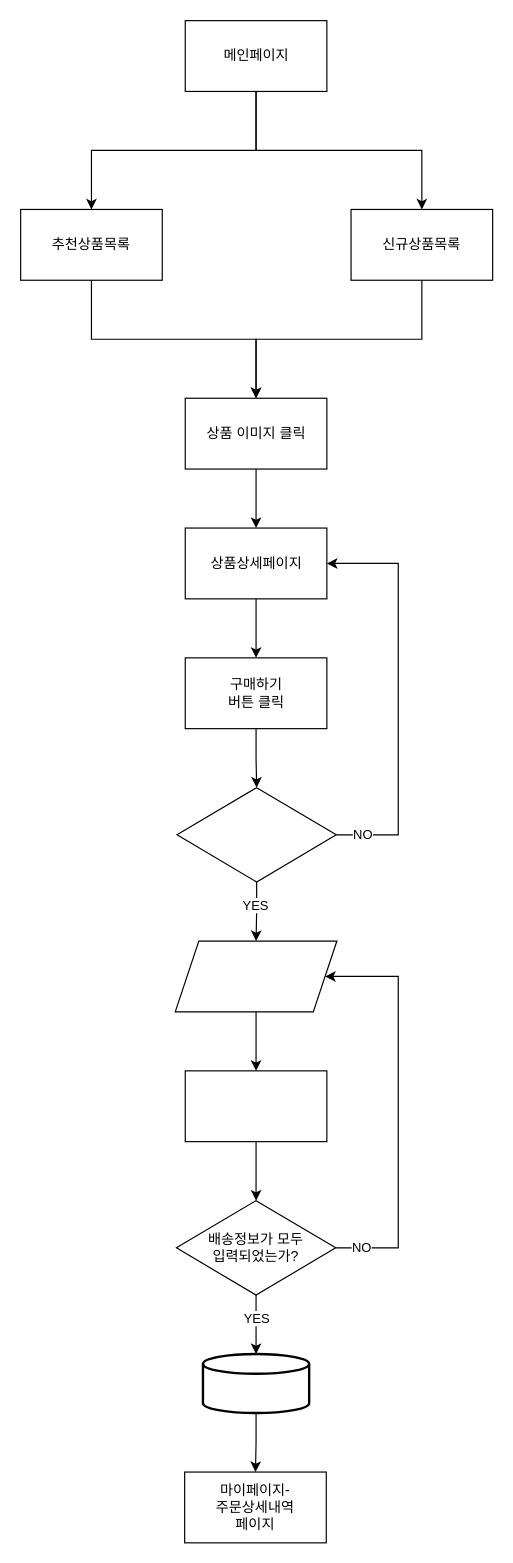
The diagram is 513 pixels wide and 1563 high, and some of its shapes have lost their labels. Here are the shapes that lost their labels. From the top down, the centre of each, then its label:
At point (256, 834): "보유 포인트가 상품 가격보다 더 많은가?".
At point (255, 976): "주문할 상품정보 확인 및 배송정보 입력".
At point (255, 1106): "주문하기 버튼 클릭".
At point (255, 1383): "DB".
